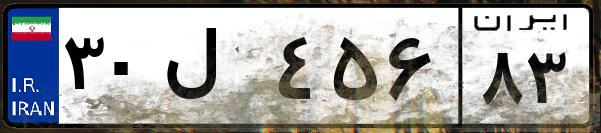0: (110, 28, 158, 98)
3: (57, 26, 110, 100), (525, 38, 570, 115)
4: (270, 28, 330, 110)
5: (330, 28, 385, 110)
6: (385, 28, 445, 110)
8: (475, 38, 525, 113)
ل: (158, 20, 270, 120)
